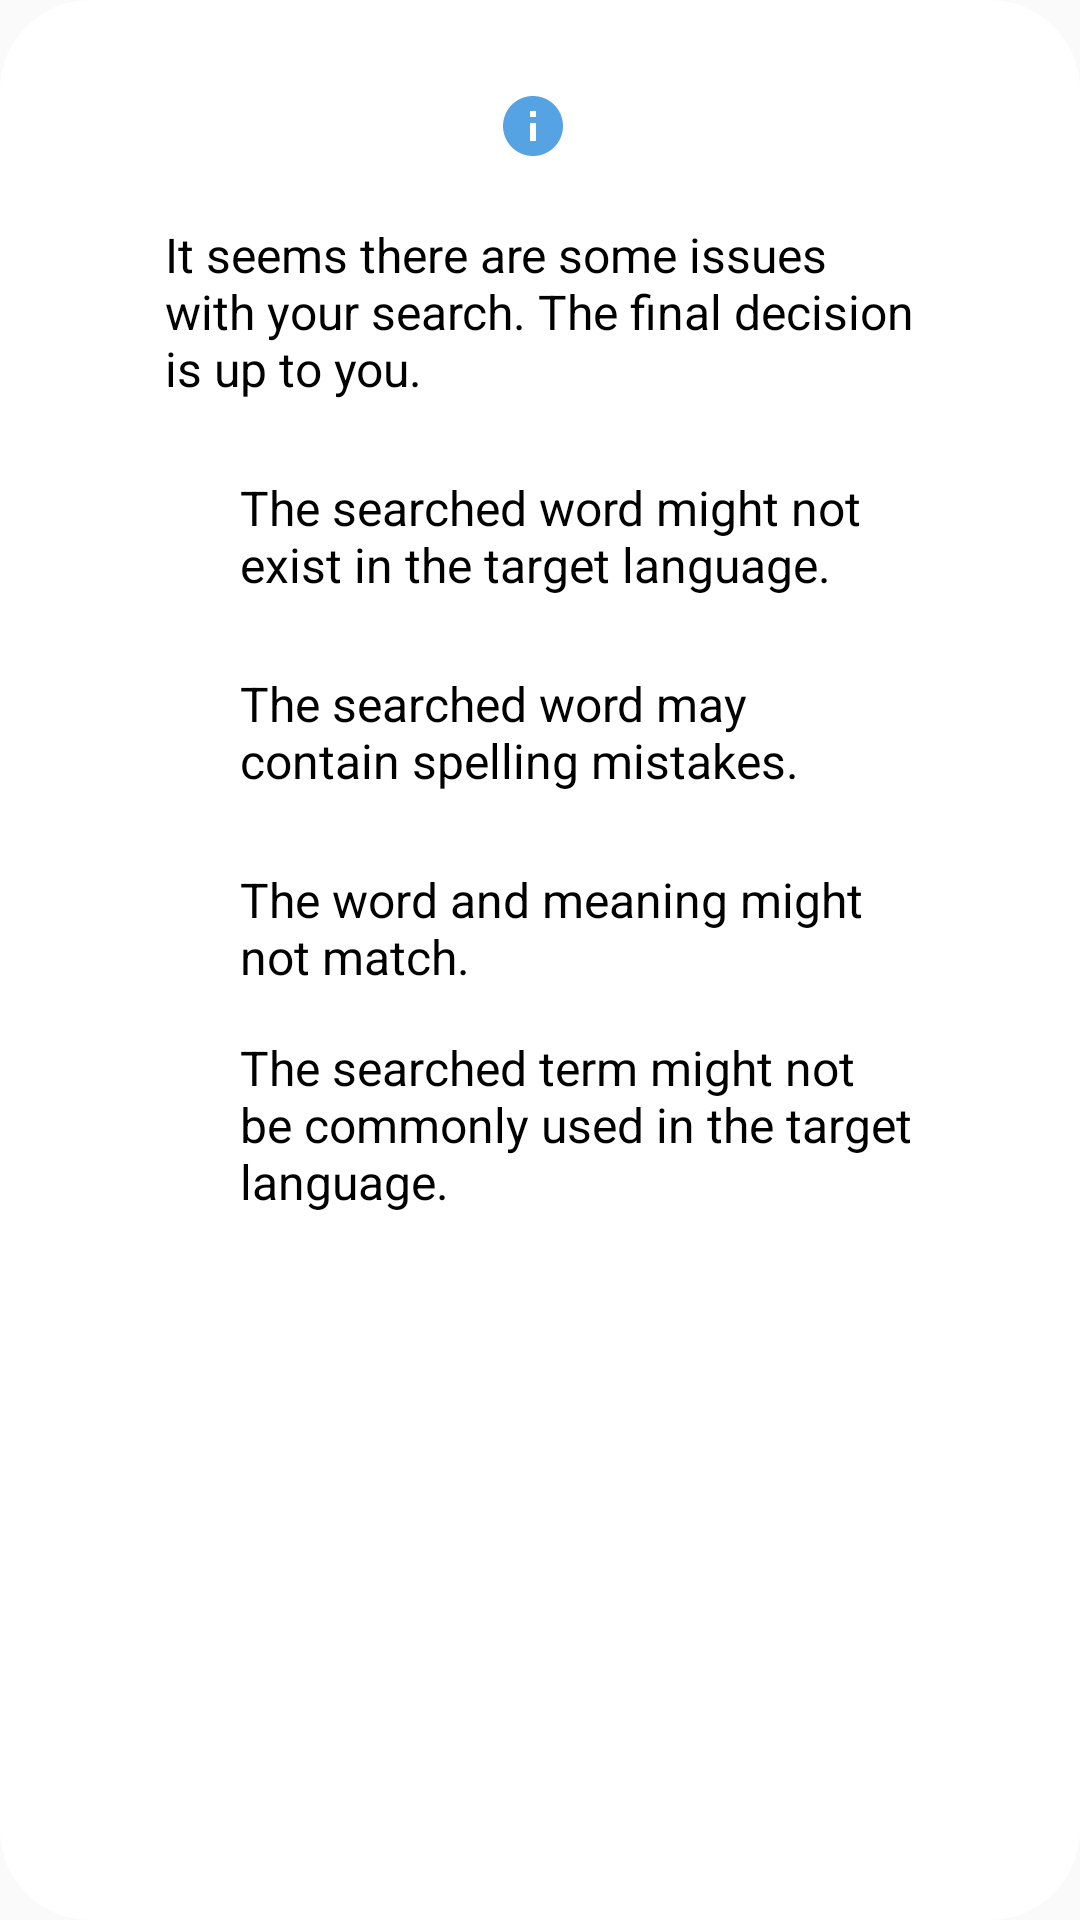

Screen size 1080px x 1920px. Icon name, then its box in pixels as box(x1, y1, x2, y2):
info: box(503, 96, 563, 156)
